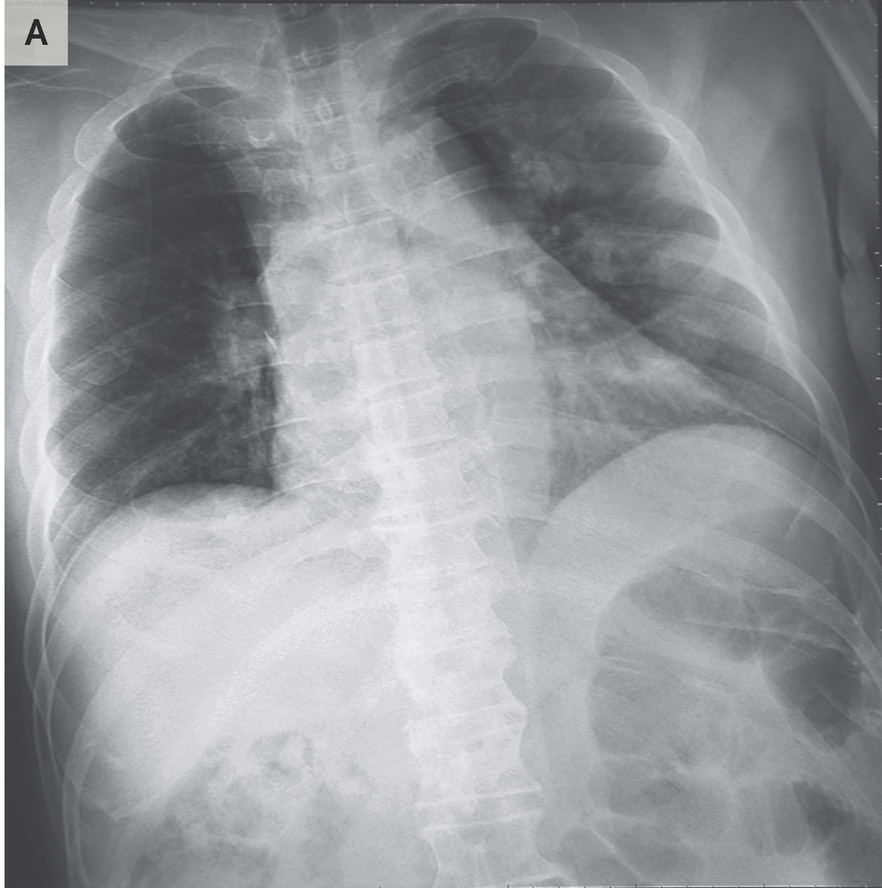Mildw: (398, 15, 858, 521), (54, 50, 290, 521)
